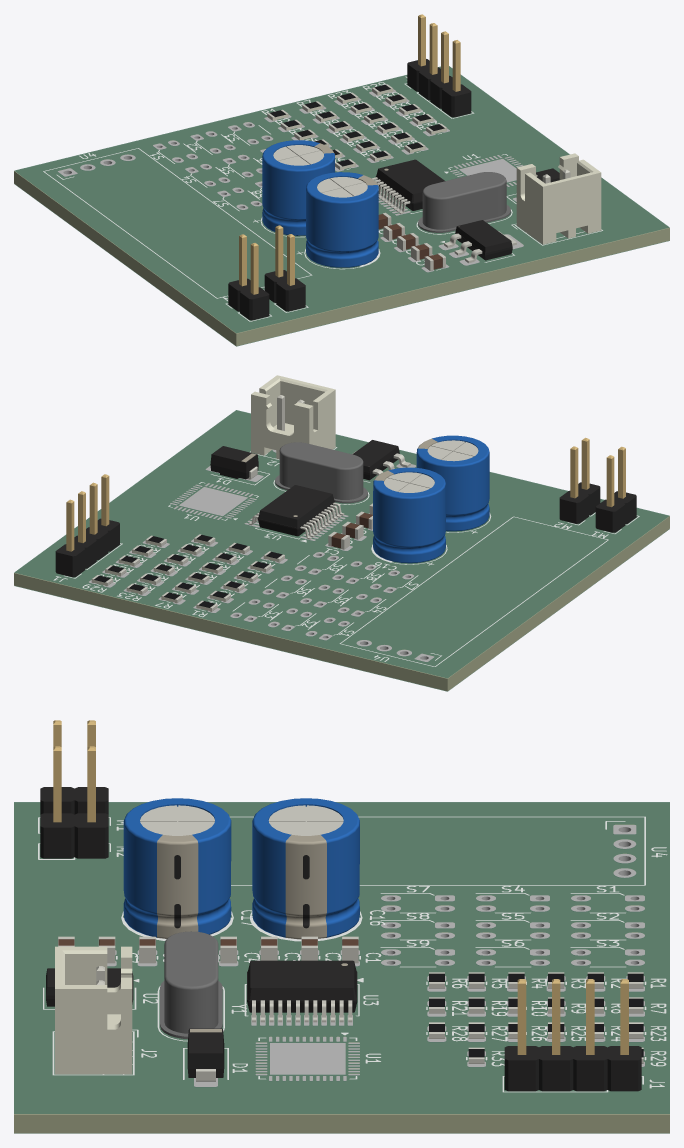
The model's file is prototip1.glb.
3 views of the same model, one above another, from view 1: azimuth 30°, elevation 25°; view 2: azimuth 150°, elevation 25°; view 3: azimuth 270°, elevation 25° (orthographic). The views are drawn at different scales.
Visible parts, largest first — view 1: =>[0:1:1:16], =>[0:1:1:14], C17, J2, C16, =>[0:1:1:12], Y1, J1, =>[0:1:1:13], U3, M1, M2 (+2 smaller); view 2: =>[0:1:1:16], =>[0:1:1:14], C16, =>[0:1:1:12], J2, C17, Y1, =>[0:1:1:13], J1, U3, M2, M1 (+3 smaller); view 3: =>[0:1:1:16], =>[0:1:1:14], C16, C17, =>[0:1:1:12], J2, =>[0:1:1:13], J1, U3, Y1, M2, M1 (+3 smaller).
Part boxes in pixels (x1,y1,x2,y2): =>[0:1:1:16]: (14, 67, 669, 346); =>[0:1:1:14]: (14, 66, 669, 333); C17: (306, 172, 378, 267); J2: (516, 153, 601, 244); C16: (262, 140, 334, 235); =>[0:1:1:12]: (58, 89, 523, 272); Y1: (418, 172, 510, 232); J1: (407, 14, 471, 117); =>[0:1:1:13]: (43, 76, 602, 321); U3: (372, 159, 445, 214); M1: (228, 234, 269, 320); M2: (264, 225, 305, 311); =>[0:1:1:16]: (14, 411, 669, 691); =>[0:1:1:14]: (14, 410, 669, 678); C16: (373, 467, 445, 563); =>[0:1:1:12]: (89, 449, 433, 661); J2: (251, 375, 335, 459); C17: (416, 435, 489, 531); Y1: (275, 442, 367, 503); =>[0:1:1:13]: (53, 447, 639, 666); J1: (55, 474, 119, 577); U3: (248, 485, 344, 539); M2: (559, 437, 600, 523); M1: (595, 446, 636, 532); =>[0:1:1:16]: (14, 803, 669, 1133); =>[0:1:1:14]: (14, 802, 669, 1113); C16: (252, 798, 359, 939); C17: (123, 798, 231, 938); =>[0:1:1:12]: (107, 825, 644, 1086); J2: (55, 946, 132, 1074); =>[0:1:1:13]: (38, 816, 667, 1092); J1: (504, 979, 641, 1091); U3: (247, 960, 357, 1022); Y1: (160, 931, 222, 1038); M2: (40, 746, 108, 858); M1: (40, 720, 108, 814).
Bounding box in the file's own units: 0.0548 × 0.0119 × 0.0487.
